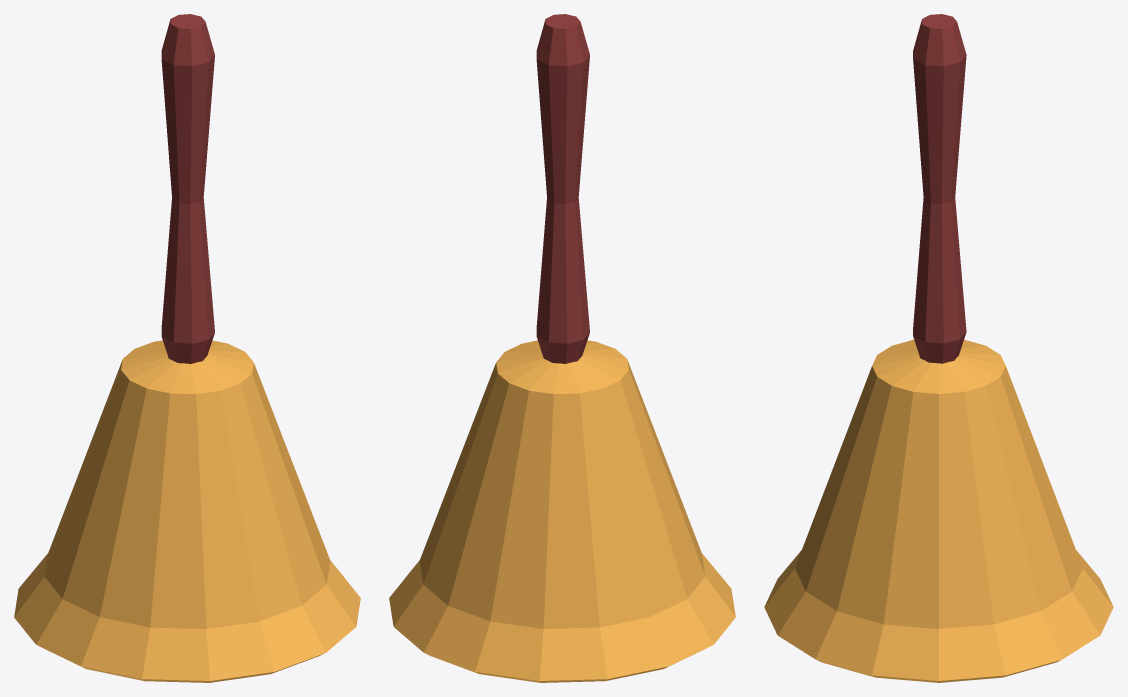
Rendered from Bell.fbx.
3 views of the same model, side by side, from view 1: azimuth 30°, elevation 25°; view 2: azimuth 150°, elevation 25°; view 3: azimuth 270°, elevation 25° (orthographic).
Parts seen in each view (by area): view 1: Bell; view 2: Bell; view 3: Bell.
Boxes of the visible parts, bbox=[...] form: Bell: bbox=[14, 14, 360, 682]; Bell: bbox=[389, 14, 735, 682]; Bell: bbox=[764, 14, 1113, 682].
Size of the model in its own units: 31.45 by 58.72 by 31.45.
